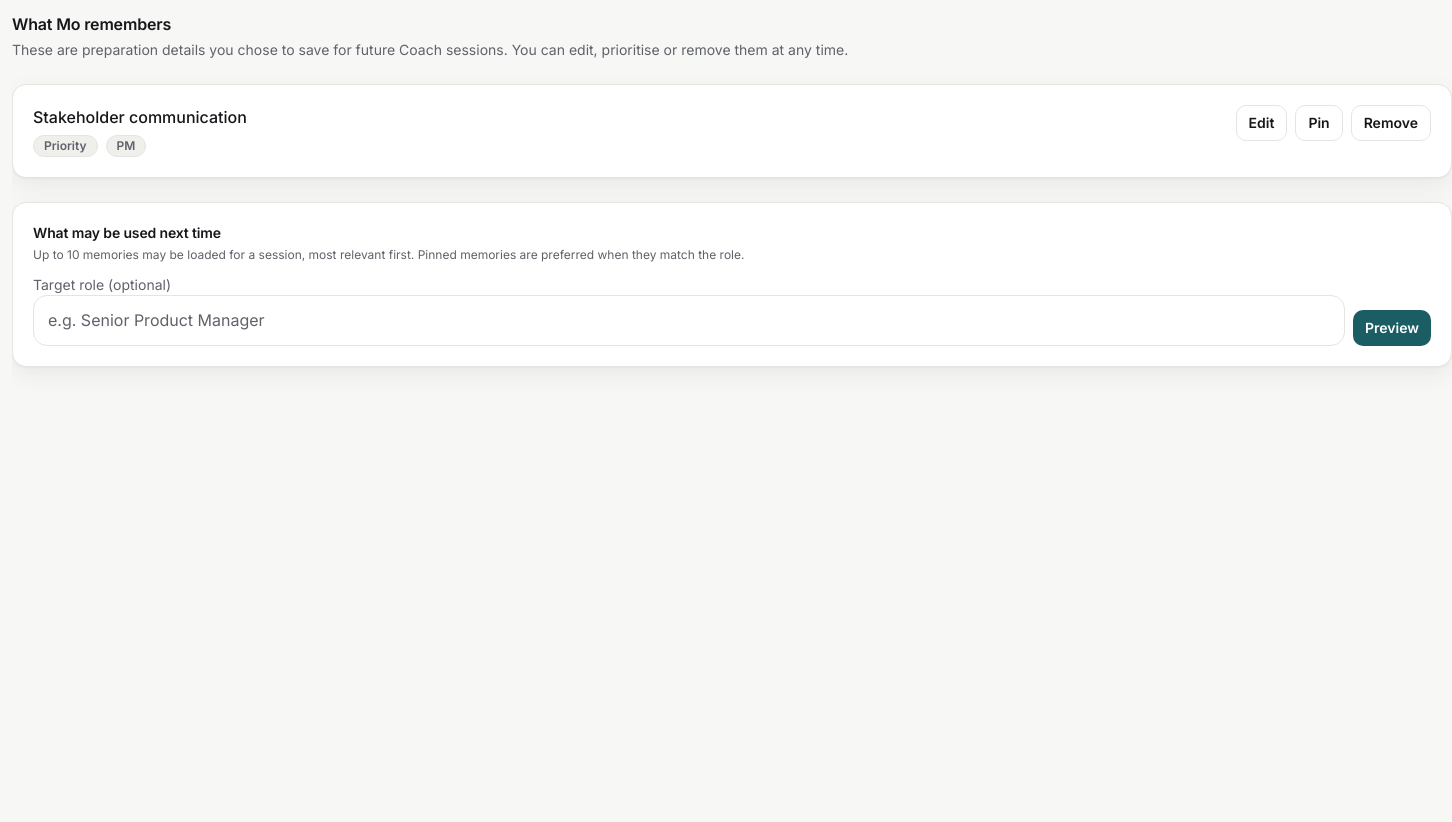
Test: MemoryManager › confirms before deleting
What coordinates should you click on to do the following:
click the button with aria-label "Remove saved memory"
I would click on:
 (1391, 123)
Its box is 1351,105 -> 1431,141.
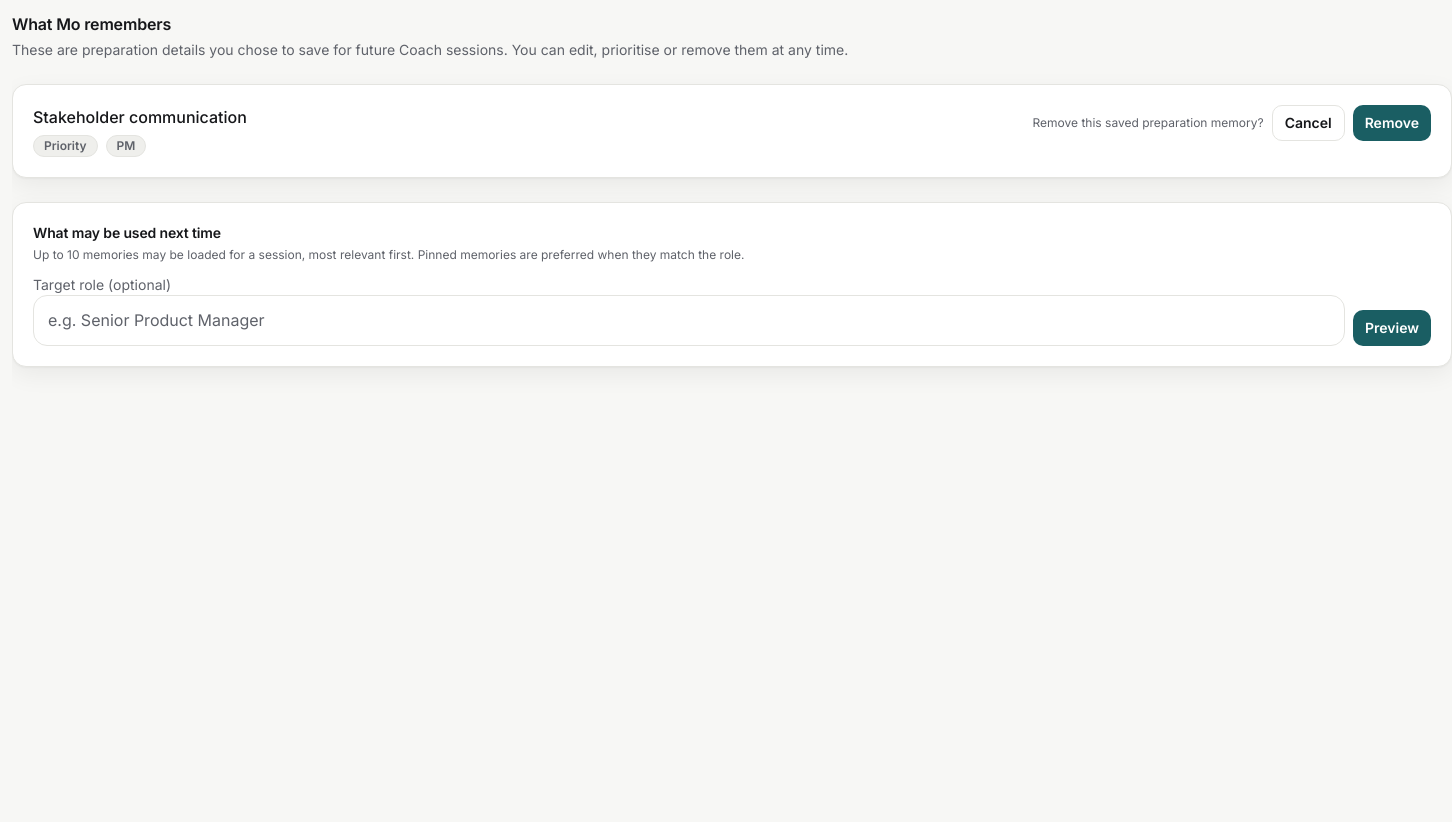
What coordinates should you click on to do the following:
click the button "Remove"
I would click on:
 (1392, 123)
Its box is 1353,105 -> 1431,141.
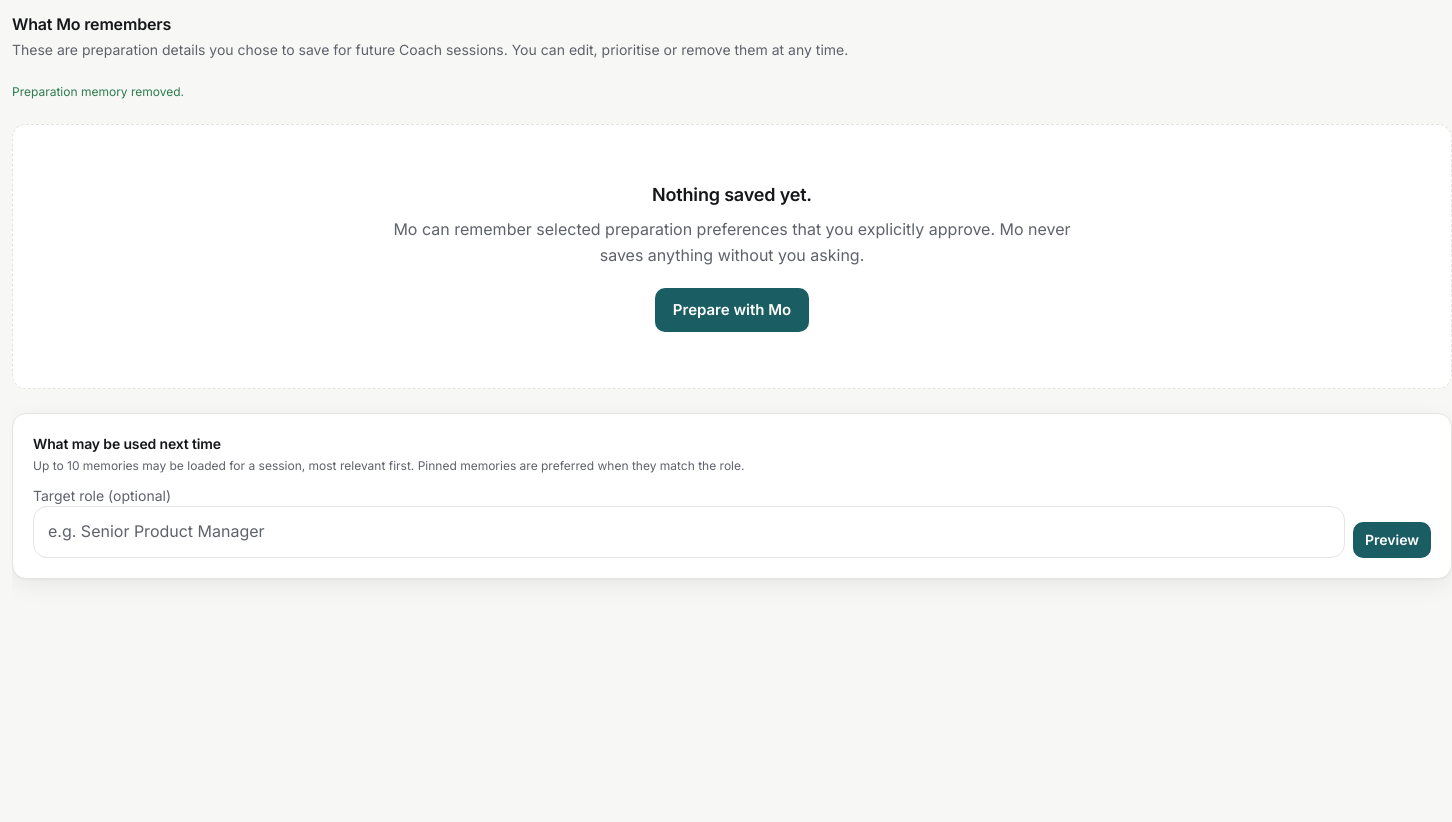
Check: the text "Stakeholder communication" is gone
